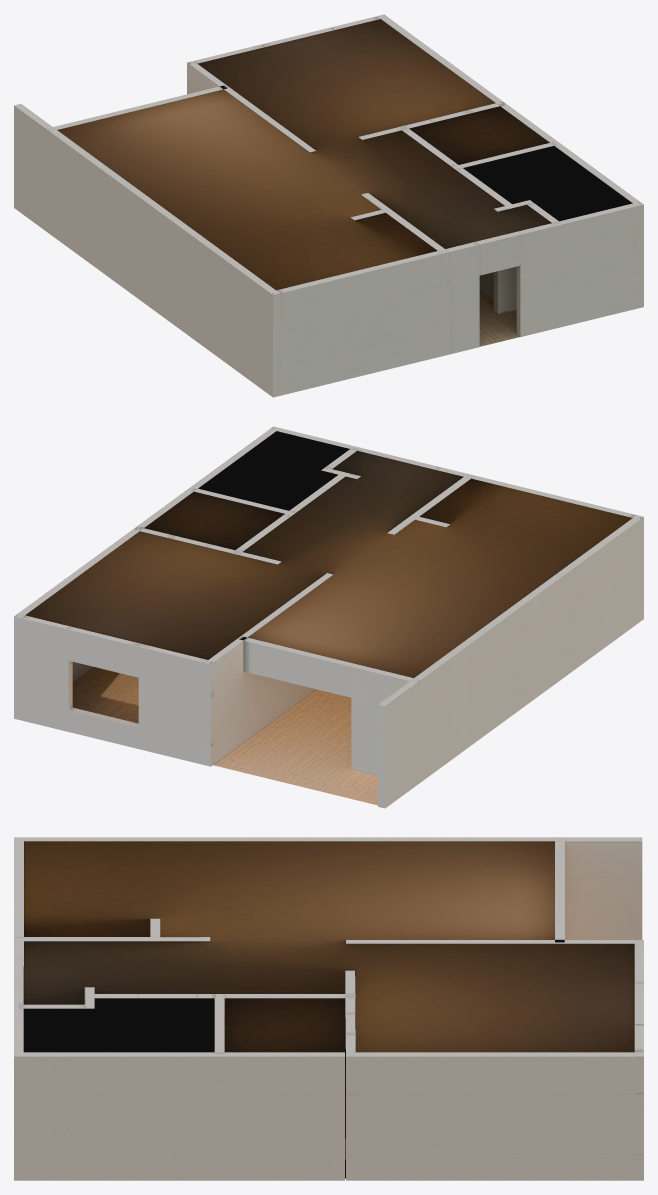
File: INTERIOR.glb
3 renders of one model, top to bottom at view 1: azimuth 30°, elevation 25°; view 2: azimuth 150°, elevation 25°; view 3: azimuth 270°, elevation 25°, orthographic. The views are drawn at different scales.
Parts seen in each view (by area): view 1: Floor; view 2: Floor; view 3: Floor.
Boxes of the visible parts, x1=… form: Floor: x1=14, y1=14, x2=643, y2=397; Floor: x1=14, y1=426, x2=643, y2=808; Floor: x1=14, y1=837, x2=643, y2=1180.
Bounding box in the file's own units: 7.58 × 2 × 9.19.
Materials: 5 (5 with a texture image).
